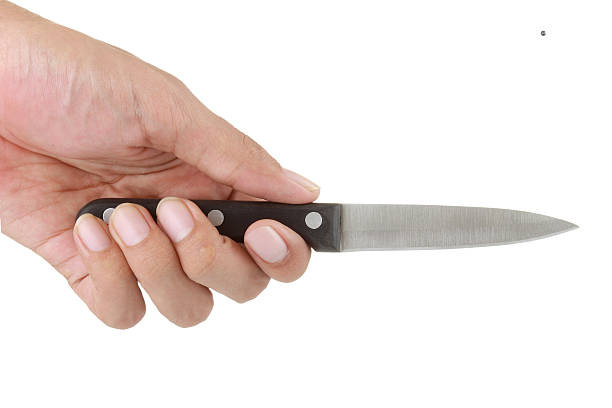knife: (72, 194, 583, 256)
